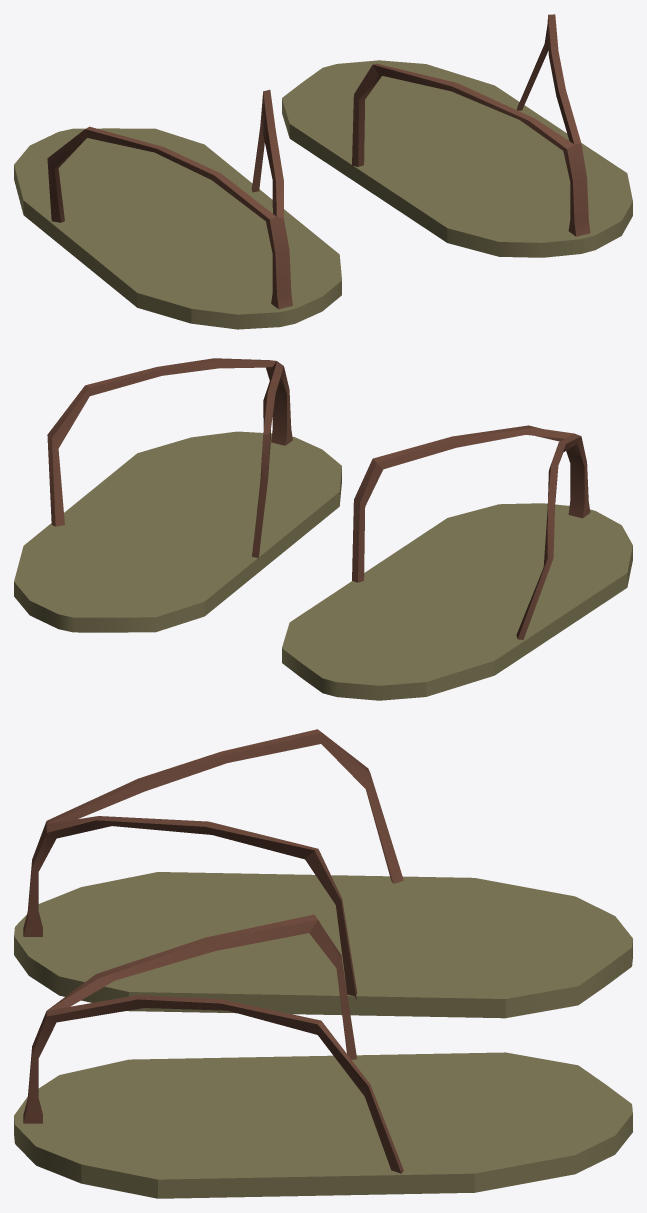
The model's file is claquette.fbx.
3 views of the same model, one above another, from view 1: azimuth 30°, elevation 25°; view 2: azimuth 150°, elevation 25°; view 3: azimuth 270°, elevation 25° (orthographic). The views are drawn at different scales.
Parts seen in each view (by area): view 1: pCube17, pCube18; view 2: pCube17, pCube18; view 3: pCube17, pCube18.
Part boxes in pixels (<box>): pCube17: <box>14,60,632,329</box>; pCube18: <box>47,14,590,309</box>; pCube17: <box>14,431,632,700</box>; pCube18: <box>47,358,590,639</box>; pCube17: <box>14,872,632,1198</box>; pCube18: <box>23,729,403,1173</box>.
Bounding box in the file's own units: 35.54 × 8.78 × 29.26.
